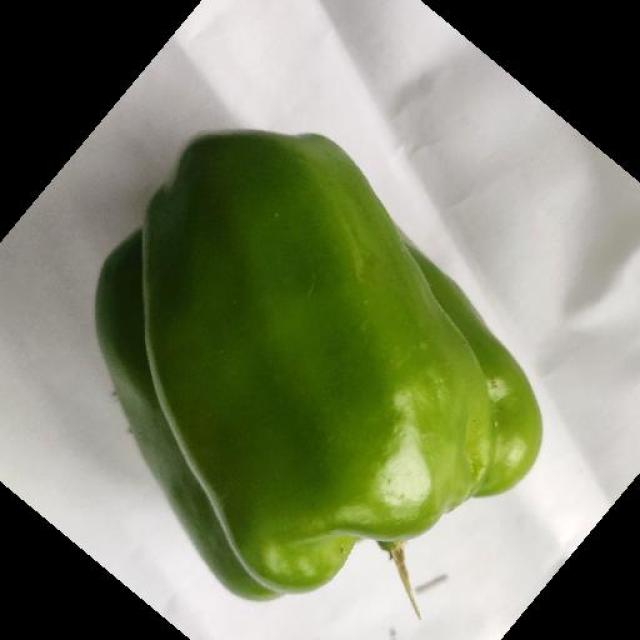Fresh_Capsicum: (99, 153, 523, 565)
